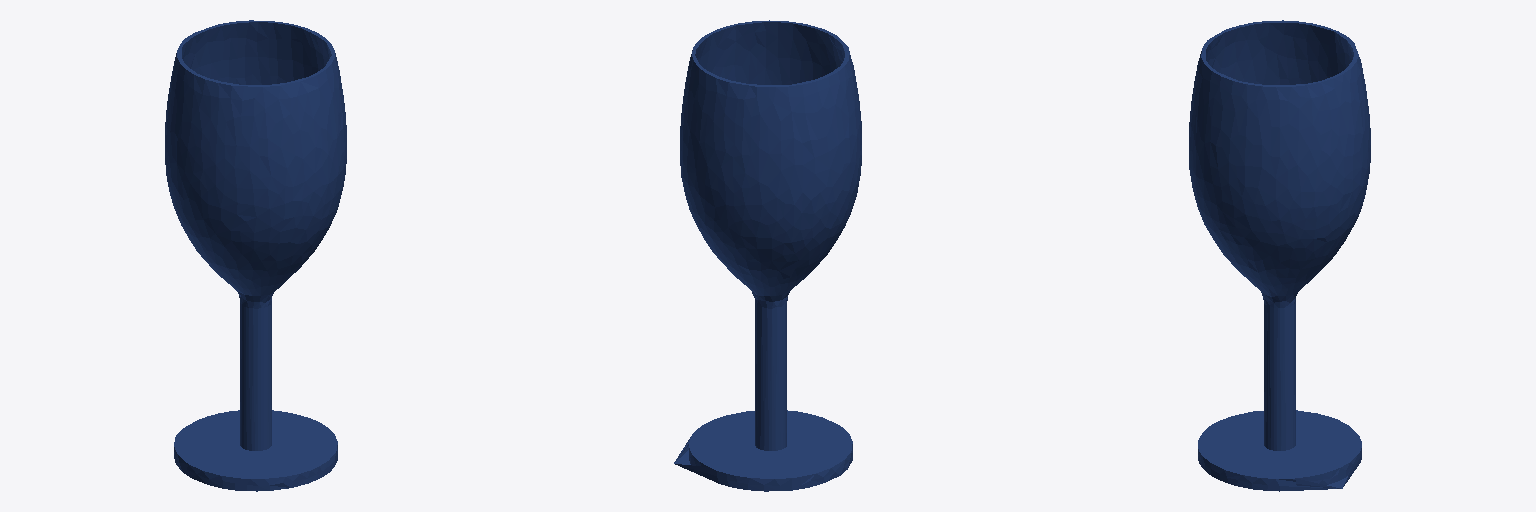
URDF robot description (design):
<?xml version="1.0"?>
<robot name="design">
  <material name="obj_color">
      <color rgba="0.2 0.3 0.5 1.0"/>
  </material>
  <link name="base">
    <visual>
      <origin xyz="0.0 0.0 0.0"/>
      <geometry>
        <mesh filename="wineglass.obj" scale="1 1 1"/>
      </geometry>
      <material name="obj_color"/>
    </visual>
    <collision>
      <origin xyz="0.0 0.0 0.0"/>
      <geometry>
        <mesh filename="wineglass.obj" scale="1 1 1"/>
      </geometry>
    </collision>
  </link>
</robot>

--- Facts derived from the render (not from the file) ---
Views: 3 orthographic renders of the robot side by side, from view 1: azimuth 30°, elevation 25°; view 2: azimuth 150°, elevation 25°; view 3: azimuth 270°, elevation 25°.
Robot: design — 1 links, 0 joints (none); root link base; default pose: every joint at zero.
Links seen in each view (by area): view 1: base; view 2: base; view 3: base.
Link boxes in pixels (<box>): base: <box>165,20,346,491</box>; base: <box>674,20,861,491</box>; base: <box>1189,20,1370,491</box>.
Size in the robot's own frame: 0.0707 by 0.0707 by 0.172 metres.
Meshes: 1 distinct files referenced, 1 mesh visuals loaded (1 OBJ).